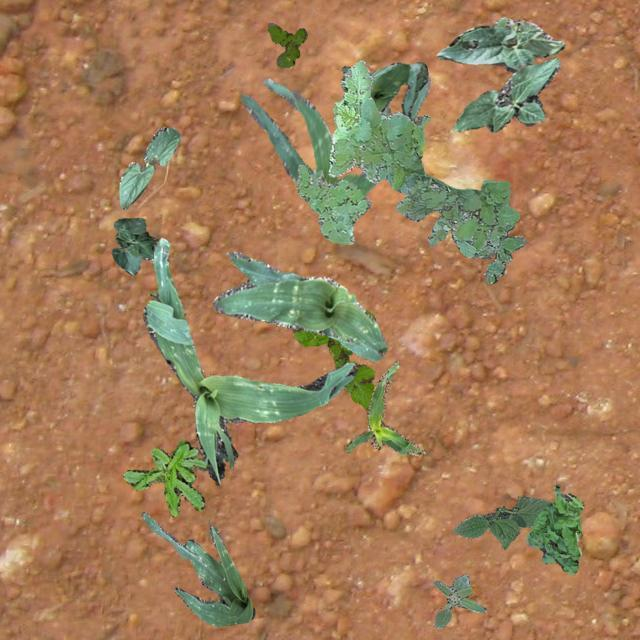crop: (142, 238, 356, 480), (240, 74, 430, 194), (212, 250, 386, 360), (140, 510, 254, 626), (452, 56, 560, 132), (344, 361, 424, 454), (436, 15, 562, 70), (119, 125, 180, 208), (452, 496, 548, 548), (341, 60, 426, 116), (110, 217, 158, 274)
weed: (328, 60, 518, 256), (292, 310, 374, 410), (121, 440, 206, 516), (296, 164, 371, 244), (526, 484, 582, 574), (476, 222, 526, 282), (432, 574, 484, 628), (266, 22, 306, 66)
